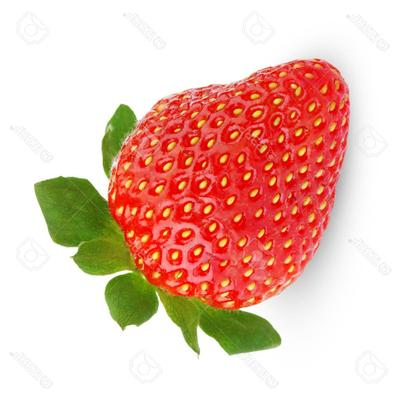strawberry: (0, 0, 396, 400)
